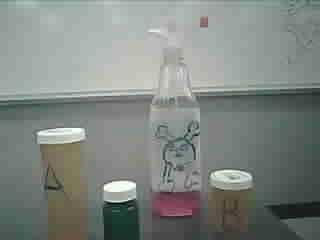Bottle A: (31, 119, 98, 240)
Bottle B: (206, 164, 256, 239)
Bottle C: (97, 171, 146, 240)
hazard: (140, 12, 208, 221)
